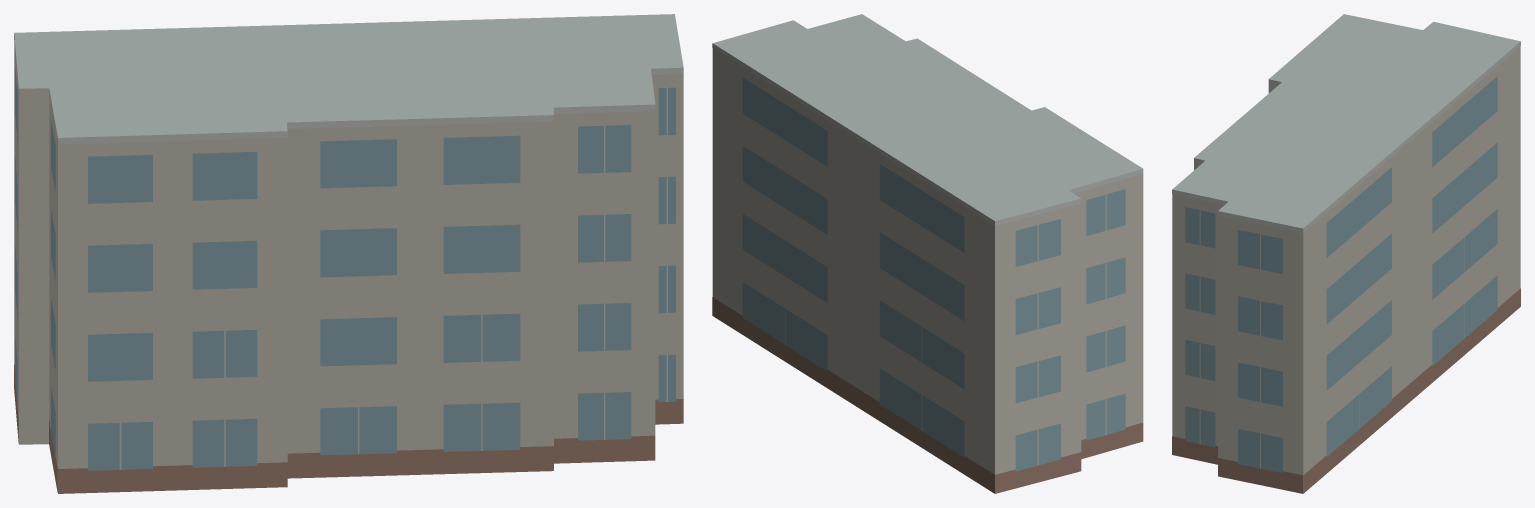
File: survey-upis-33038464.glb
3 views of the same model, side by side, from view 1: azimuth 30°, elevation 25°; view 2: azimuth 150°, elevation 25°; view 3: azimuth 270°, elevation 25° (orthographic). The views are drawn at different scales.
Visible parts, largest first — view 1: survey-upis-33038464.tmp; view 2: survey-upis-33038464.tmp; view 3: survey-upis-33038464.tmp.
Boxes of the visible parts, x1=… form: survey-upis-33038464.tmp: x1=14, y1=14, x2=683, y2=493; survey-upis-33038464.tmp: x1=712, y1=14, x2=1143, y2=493; survey-upis-33038464.tmp: x1=1172, y1=14, x2=1520, y2=493.
Bounding box in the file's own units: 23.33 × 13.45 × 16.02.
